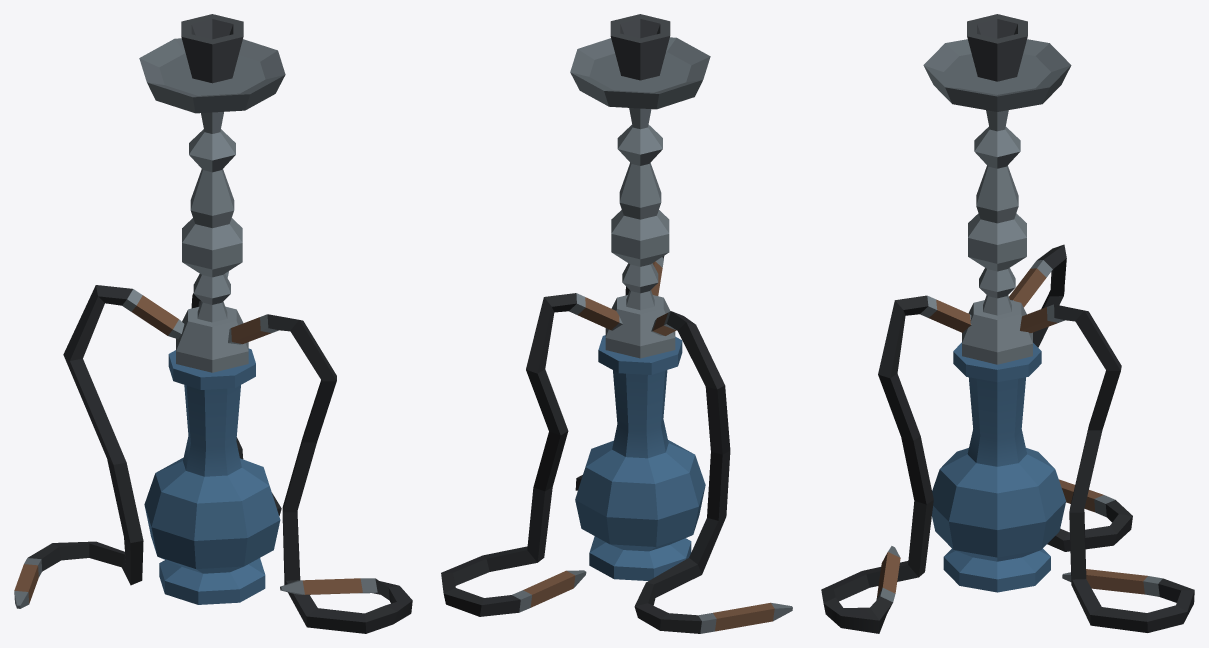
The model's file is SM_Prop_SmokePipe_02.fbx.
The picture shows the model from 3 angles, left to right: view 1: azimuth 30°, elevation 25°; view 2: azimuth 150°, elevation 25°; view 3: azimuth 270°, elevation 25°; orthographic projection. The views are drawn at different scales.
Parts seen in each view (by area): view 1: SM_Prop_SmokePipe_02; view 2: SM_Prop_SmokePipe_02; view 3: SM_Prop_SmokePipe_02.
Boxes of the visible parts, box(x1,y1,x2,y2) form: SM_Prop_SmokePipe_02: box(14, 14, 412, 633); SM_Prop_SmokePipe_02: box(441, 14, 792, 633); SM_Prop_SmokePipe_02: box(821, 14, 1194, 633).
Bounding box in the file's own units: 53.54 × 92.39 × 57.47.
